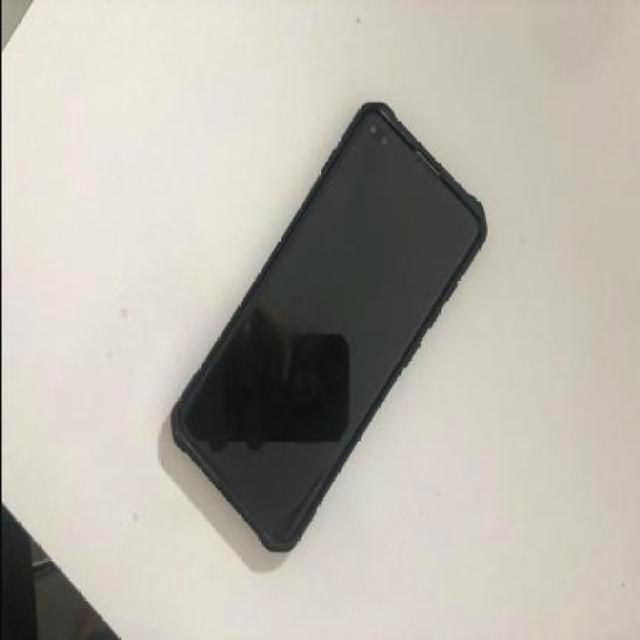phone: (168, 104, 486, 554)
